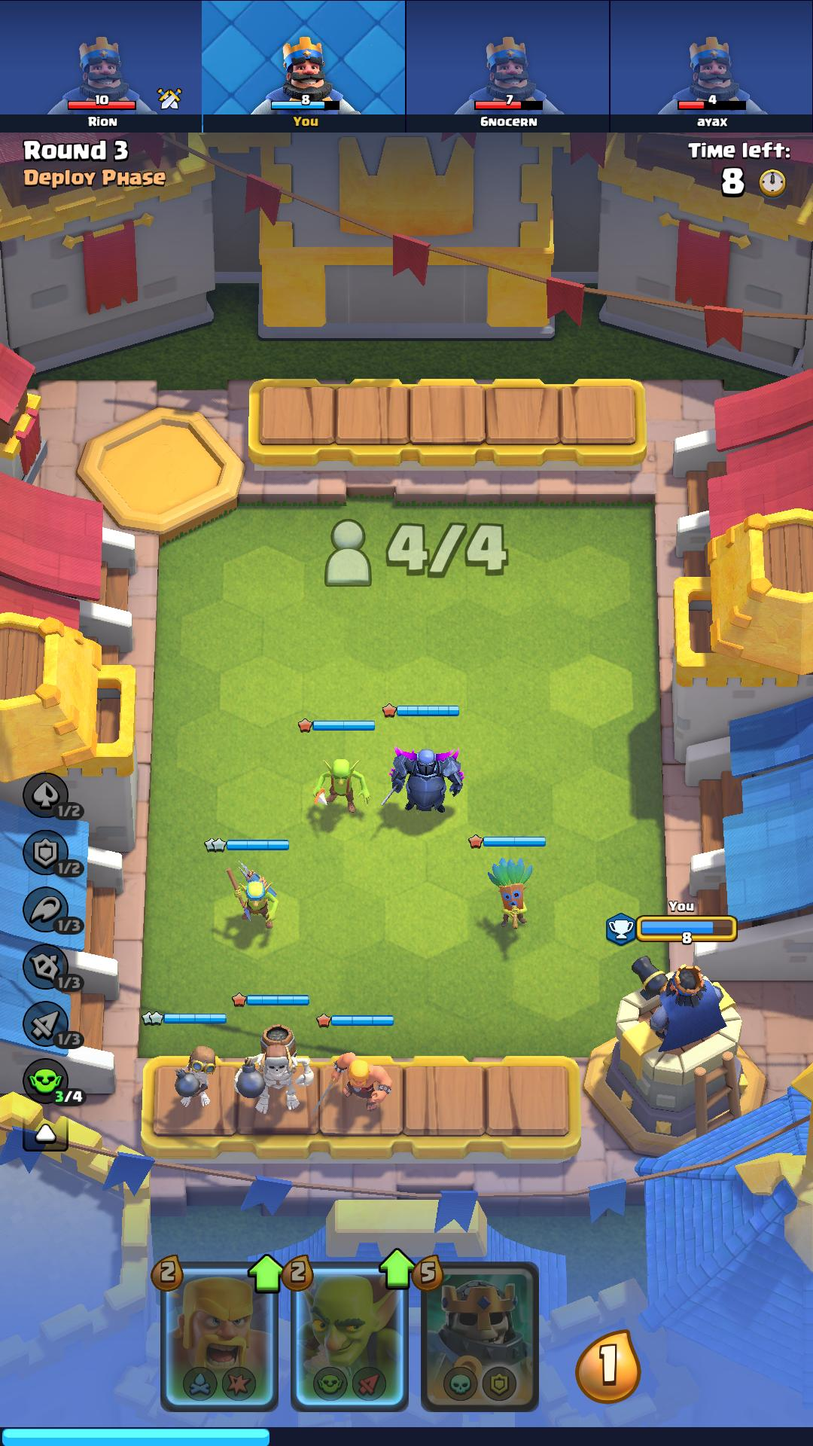barbarian: (317, 1043, 399, 1115)
bomber: (168, 1038, 216, 1110)
dart: (480, 853, 539, 931)
giant: (228, 1023, 316, 1118)
goblin: (305, 752, 370, 820)
hand-barbarian: (162, 1264, 275, 1405)
hand-goblin: (295, 1263, 407, 1408)
hand-king: (422, 1262, 536, 1407)
pekka: (379, 736, 468, 820)
spear: (221, 863, 286, 932)
upgrade: (378, 1248, 420, 1291), (248, 1254, 288, 1295)
